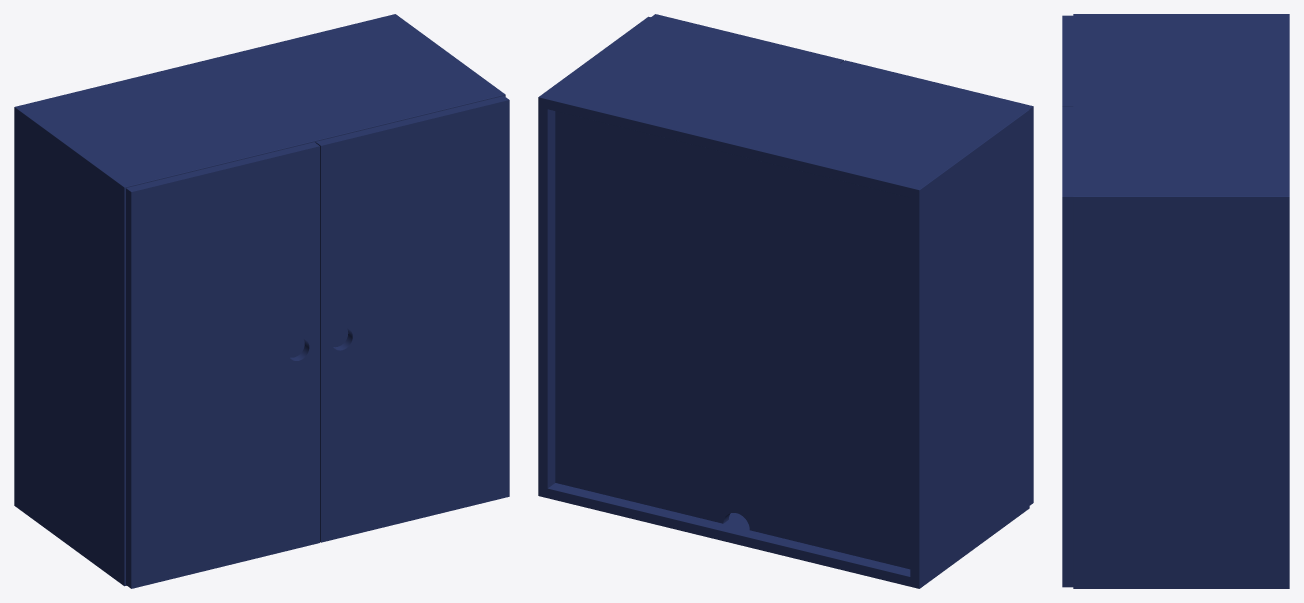
The model's file is MOD_2X2_DD_B_AP_AF.glb.
The picture shows the model from 3 angles, left to right: view 1: azimuth 30°, elevation 25°; view 2: azimuth 150°, elevation 25°; view 3: azimuth 270°, elevation 25°; orthographic projection.
Size of the model in its own units: 720 by 720 by 378.
